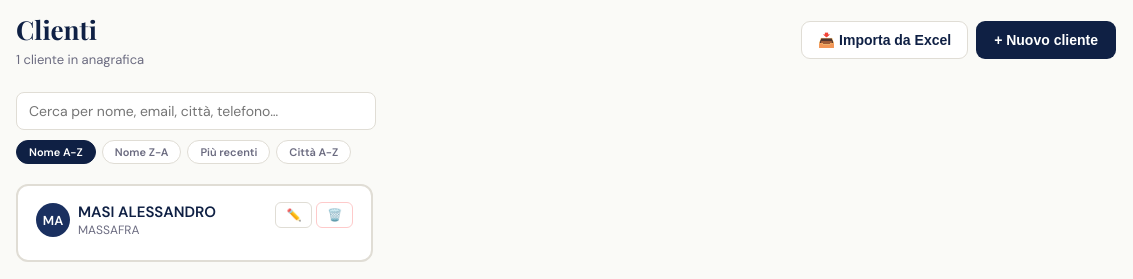
Test: ClientiView — la ricerca lato server segue le mutazioni locali › con l'anagrafica ancora in volo i risultati del server restano intatti
Type "masi alessan" into the field with placeholder "Cerca per nome, email, città, telefono…" at coordinates (196, 111), box left=16, top=92, right=376, bottom=130
Wait 300 ms
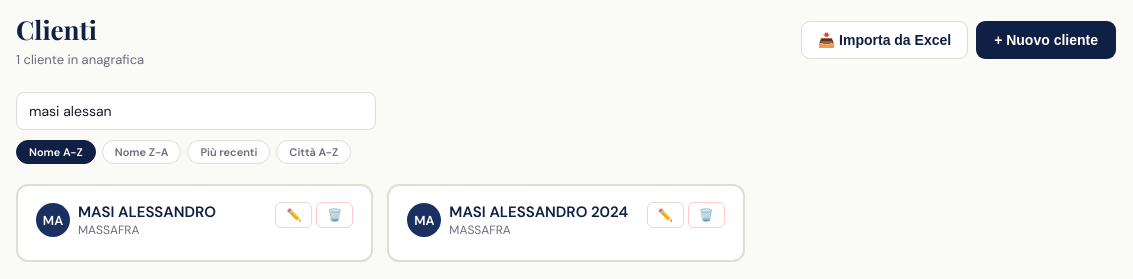
Expected: the text "MASI ALESSANDRO" is shown, left=78, top=202, right=216, bottom=222
Result: the text "MASI ALESSANDRO 2024" is shown at left=449, top=202, right=628, bottom=222
